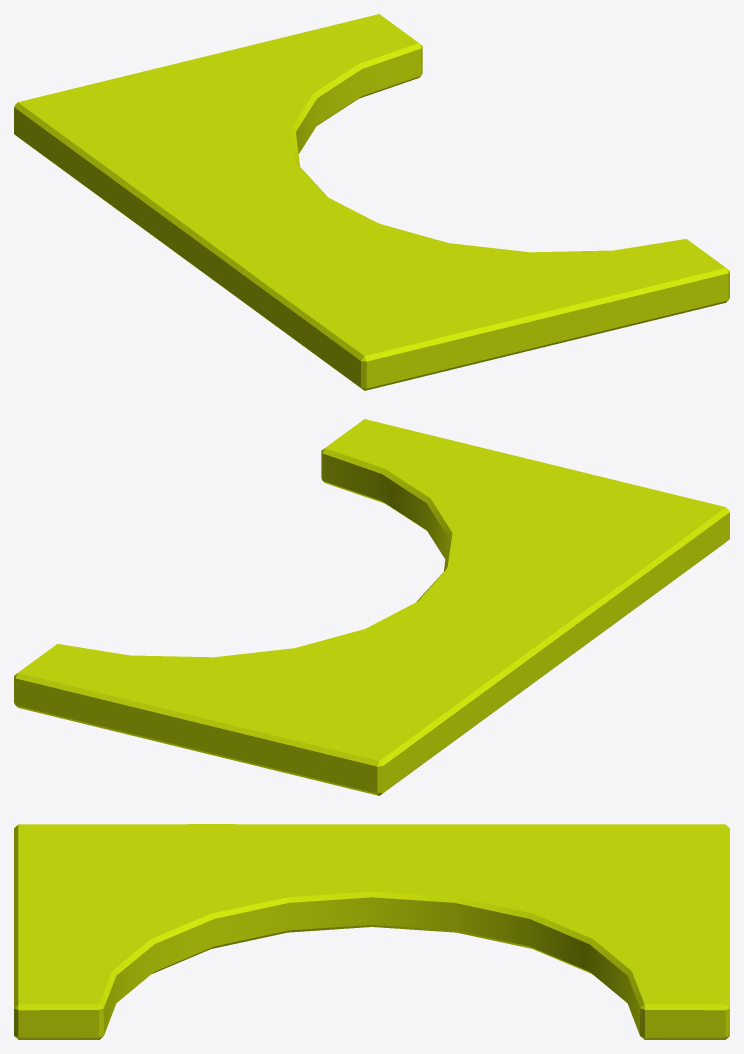
Rendered from Board_Ball_Catch_B.fbx.
The picture shows the model from 3 angles, top to bottom: view 1: azimuth 30°, elevation 25°; view 2: azimuth 150°, elevation 25°; view 3: azimuth 270°, elevation 25°; orthographic projection.
Visible parts, largest first — view 1: Board_Ball_Catch_B; view 2: Board_Ball_Catch_B; view 3: Board_Ball_Catch_B.
Boxes of the visible parts, bbox=[...] form: Board_Ball_Catch_B: bbox=[14, 14, 729, 390]; Board_Ball_Catch_B: bbox=[14, 419, 729, 795]; Board_Ball_Catch_B: bbox=[14, 824, 729, 1039].
Size of the model in its own units: 3.07 by 0.2772 by 5.06.
